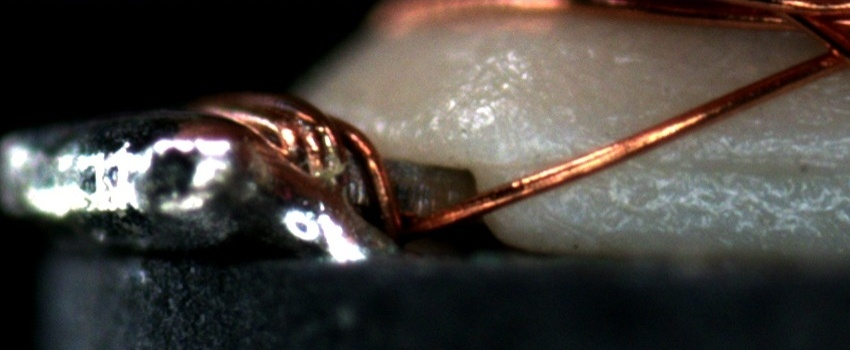CL: (800, 21, 849, 79)
DL: (478, 140, 850, 198)
TE: (202, 88, 406, 249)
